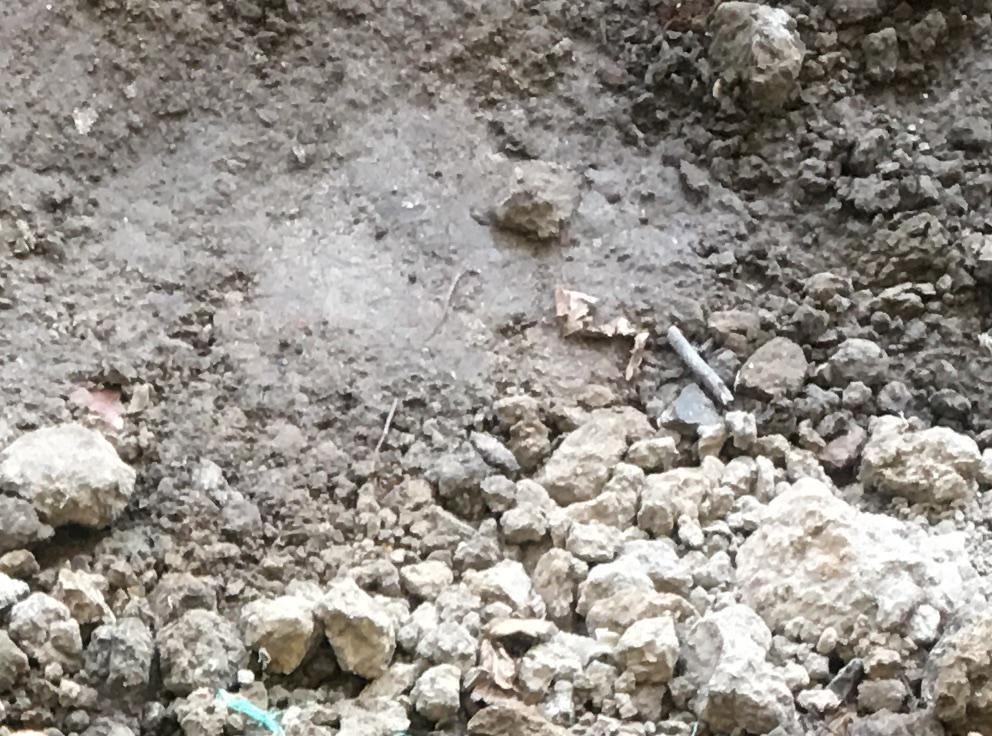block: (727, 473, 985, 683), (1, 427, 139, 543)
